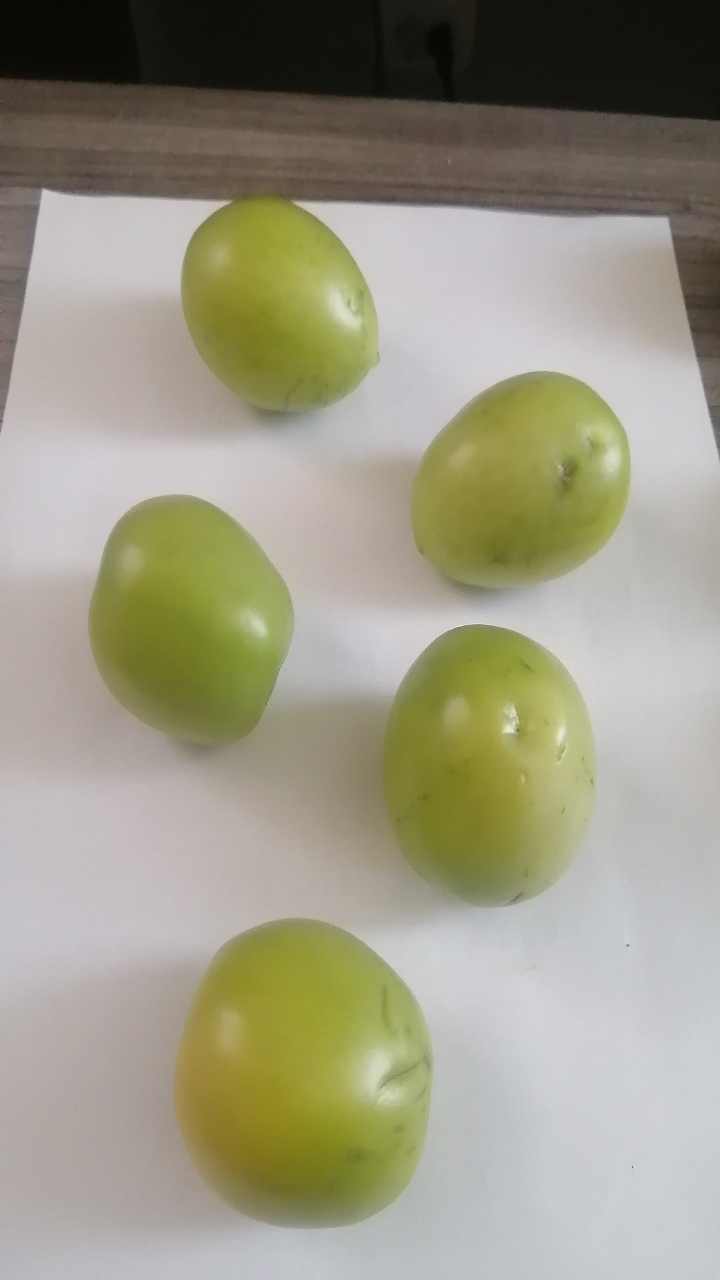tomateVerde: (160, 908, 449, 1246), (363, 603, 608, 935), (391, 348, 655, 612), (64, 468, 298, 765), (155, 179, 409, 411)
